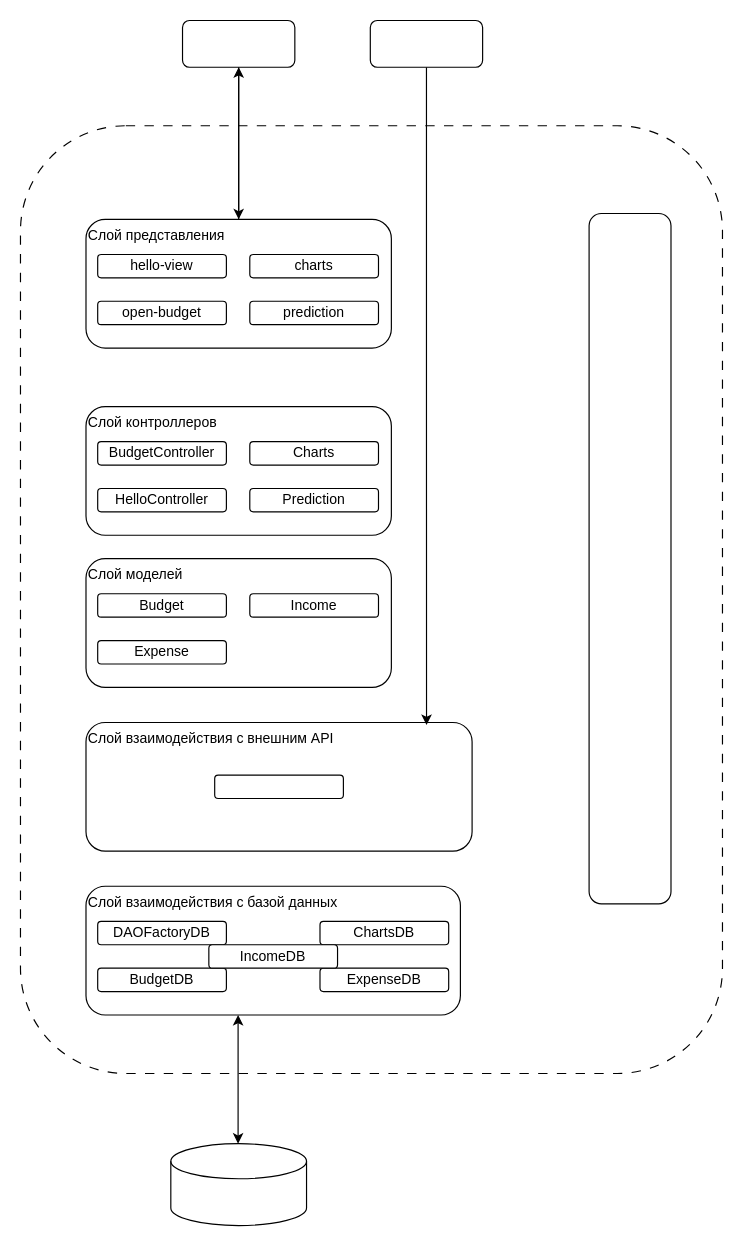
Image size: 743x1246. Some labels were removed from this diagram. Here are the shapes that lost their labels. From the top down, the centre of each, then its label:
At (x=238, y=43): "Пользователь".
At (x=426, y=43): "внешнее API".
At (x=629, y=558): "Конфигурационный слой".
At (x=278, y=786): "AIModel".
At (x=238, y=1184): "БД".
